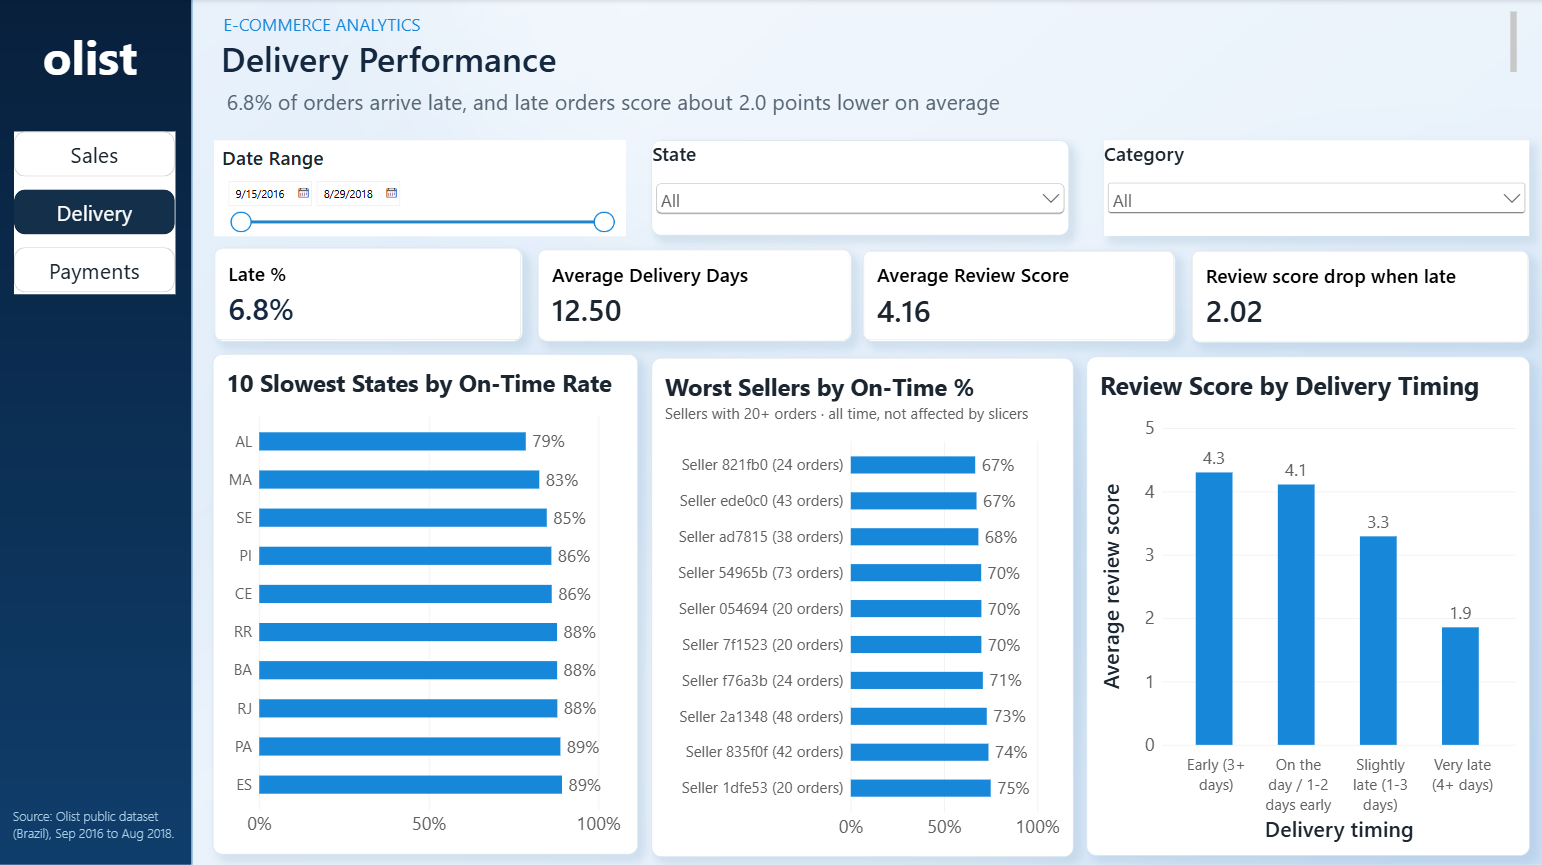

The dashboard page shown, as its layout file describes it:
{"tool":"powerbi","page":{"name":"Delivery ","canvas":[1920,1080],"ordinal":1},"visuals":[{"type":"cardVisual","title":"Orders Delivered Late","fields":{"Data":["order_level_export.Late %"]},"box":[266.9,308.7,383.7,116.9],"z":0},{"type":"barChart","title":"10 Slowest States by On-Time Rate ","fields":{"Category":["order_level_export.customer_state"],"Y":["order_level_export.On-Time %"]},"box":[266.3,442.2,528.5,622.7],"z":1000},{"type":"barChart","title":"Worst Sellers by On-Time %","fields":{"Category":["seller_scorecard_export.Seller Display"],"Y":["Avg(seller_scorecard_export.on_time_pct)"]},"box":[810.7,445.5,525,620.9],"z":2000},{"type":"columnChart","title":"Review Score by Delivery Timing","fields":{"Category":["order_level_export.Delivery Bucket"],"Y":["order_level_export.Avg Review Score"]},"box":[1351.7,444.8,551.2,620.9],"z":3000},{"type":"textbox","box":[266.9,15.7,1620.4,92.4],"z":4000},{"type":"slicer","title":"Date Range","fields":{"Values":["order_level_export.order_purchase_timestamp"]},"box":[266.9,176.2,511,118.6],"z":5000},{"type":"slicer","title":"State","fields":{"Values":["order_level_export.customer_state"]},"box":[811,176.2,519.2,118.1],"z":6000},{"type":"slicer","title":"Category","fields":{"Values":["order_level_export.category"]},"box":[1374.4,176.2,529,119.4],"z":7000},{"type":"cardVisual","fields":{"Data":["order_level_export.Review Score Gap"]},"box":[1482.6,312.2,420.4,115.1],"z":8000},{"type":"cardVisual","fields":{"Data":["order_level_export.Avg Review Score"]},"box":[1074.4,312.2,389,113.4],"z":9000},{"type":"cardVisual","fields":{"Data":["order_level_export.Avg Delivery Days"]},"box":[669.8,310.5,390.7,115.1],"z":10000},{"type":"textbox","box":[18.4,31.8,189.3,93.8],"z":11000},{"type":"pageNavigator","box":[18.4,164.1,201,202.7],"z":12000},{"type":"cardVisual","fields":{"Data":["order_level_export.Delivery Subtitle"]},"box":[266.9,97.7,1064,57.6],"z":13000},{"type":"textbox","box":[17.4,1004,202.3,54],"z":14000}]}

Visuals, with their boxes on the page's 1920x1080 design canvas (x1, y1, x2, y2). These are canvas units, not pixel positions in the 1542x865 screenshot, which may show the page scaled, cropped or inside an application window:
"Orders Delivered Late" cardVisual: x1=267 y1=309 x2=651 y2=426
"10 Slowest States by On-Time Rate " barChart: x1=266 y1=442 x2=795 y2=1065
"Worst Sellers by On-Time %" barChart: x1=811 y1=446 x2=1336 y2=1066
"Review Score by Delivery Timing" columnChart: x1=1352 y1=445 x2=1903 y2=1066
textbox: x1=267 y1=16 x2=1887 y2=108
"Date Range" slicer: x1=267 y1=176 x2=778 y2=295
"State" slicer: x1=811 y1=176 x2=1330 y2=294
"Category" slicer: x1=1374 y1=176 x2=1903 y2=296
cardVisual - order_level_export.Review Score Gap: x1=1483 y1=312 x2=1903 y2=427
cardVisual - order_level_export.Avg Review Score: x1=1074 y1=312 x2=1463 y2=426
cardVisual - order_level_export.Avg Delivery Days: x1=670 y1=310 x2=1060 y2=426
textbox: x1=18 y1=32 x2=208 y2=126
pageNavigator: x1=18 y1=164 x2=219 y2=367
cardVisual - order_level_export.Delivery Subtitle: x1=267 y1=98 x2=1331 y2=155
textbox: x1=17 y1=1004 x2=220 y2=1058
